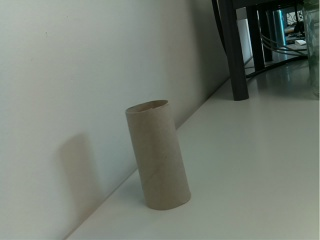rollo papel: (123, 98, 194, 213)
